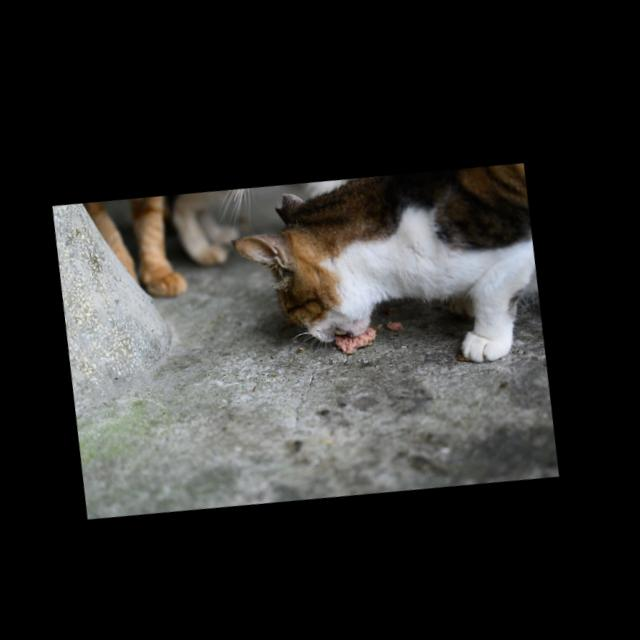animals: (221, 140, 555, 395), (77, 175, 269, 312)
